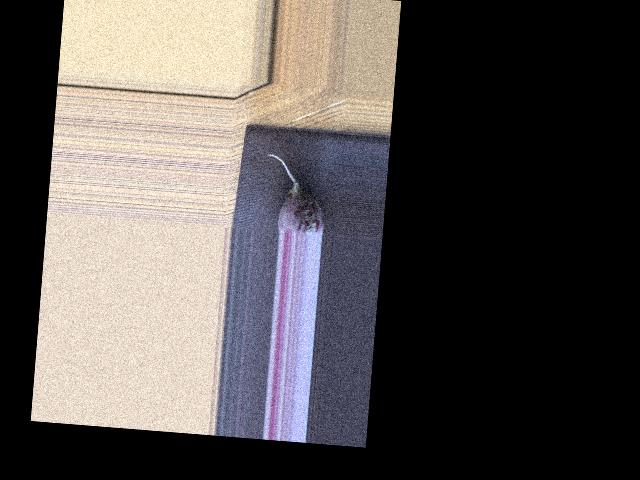beet: (262, 153, 329, 235)
